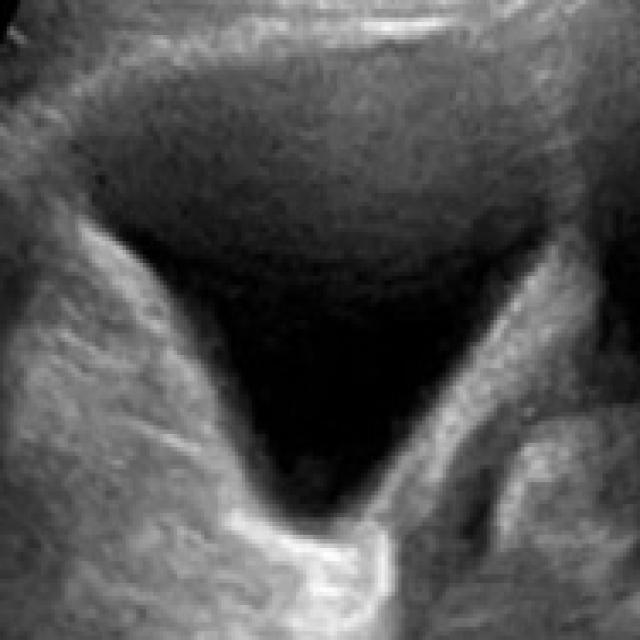bladder: (35, 14, 597, 616)
